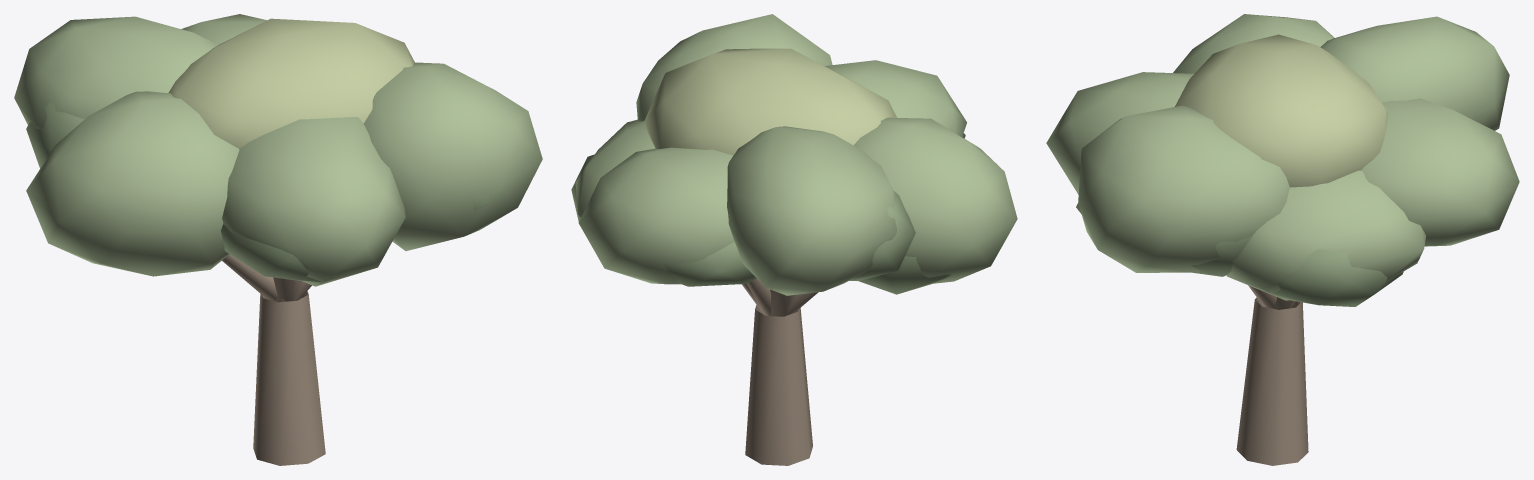
Rendered from tree_ombu_5.glb.
3 views of the same model, side by side, from view 1: azimuth 30°, elevation 25°; view 2: azimuth 150°, elevation 25°; view 3: azimuth 270°, elevation 25° (orthographic). The views are drawn at different scales.
Parts seen in each view (by area): view 1: tree_ombu_5.glb; view 2: tree_ombu_5.glb; view 3: tree_ombu_5.glb.
Boxes of the visible parts, x1,y1,x2,y2 form: tree_ombu_5.glb: [14, 14, 542, 465]; tree_ombu_5.glb: [571, 14, 1017, 465]; tree_ombu_5.glb: [1046, 14, 1519, 465].
Size of the model in its own units: 6.31 by 5.85 by 6.31.
